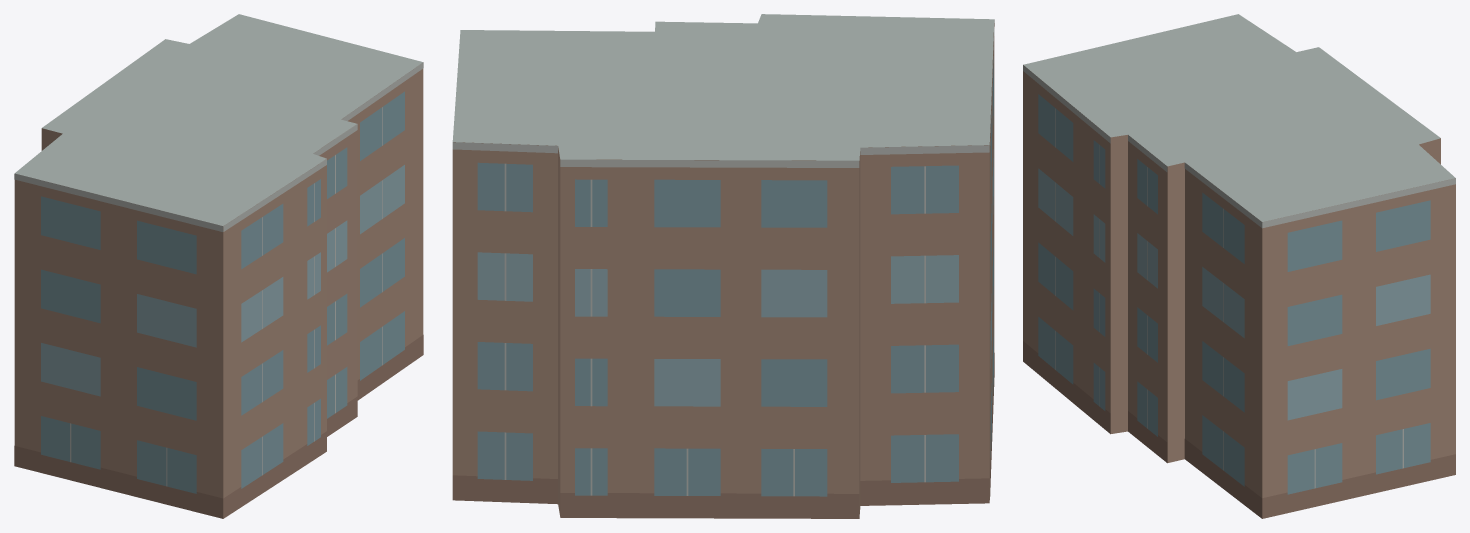
File: survey-upis-32940743.glb
3 views of the same model, side by side, from view 1: azimuth 30°, elevation 25°; view 2: azimuth 150°, elevation 25°; view 3: azimuth 270°, elevation 25° (orthographic). The views are drawn at different scales.
Visible parts, largest first — view 1: survey-upis-32940743.tmp; view 2: survey-upis-32940743.tmp; view 3: survey-upis-32940743.tmp.
Boxes of the visible parts, x1,y1,x2,y2 form: survey-upis-32940743.tmp: (14,14,423,518); survey-upis-32940743.tmp: (452,14,994,518); survey-upis-32940743.tmp: (1023,14,1455,518).
Bounding box in the file's own units: 17.61 × 11.7 × 15.47.
